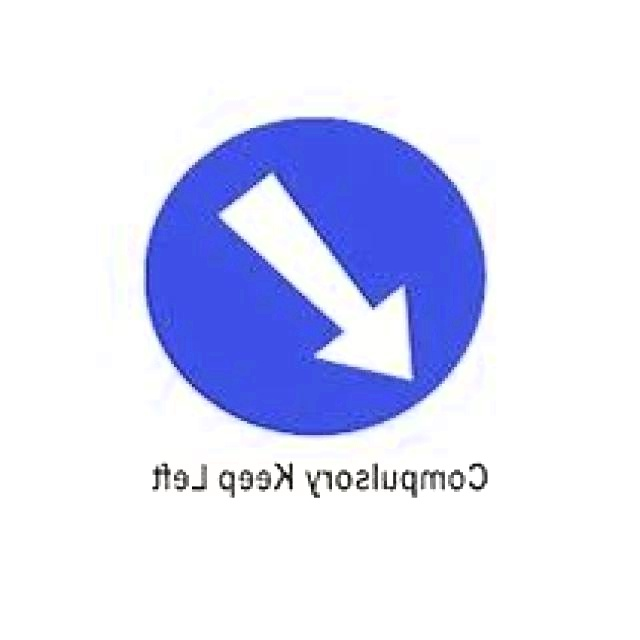R.301e: (143, 111, 491, 441)
